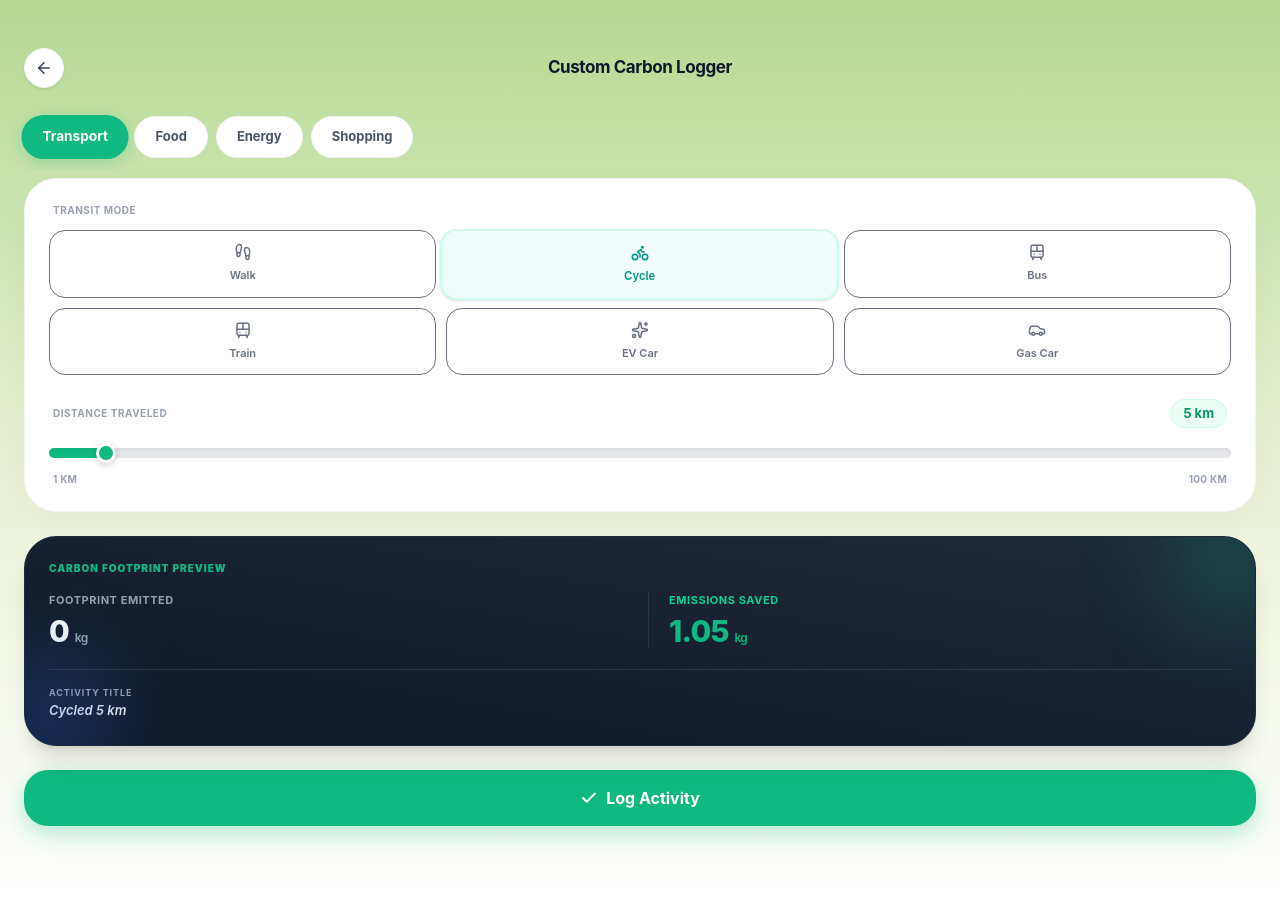
Test: ActivityTracker Page Component › submits activity payload successfully and displays success modal
Click the button "Log Activity" at x=640, y=798, box [24, 770, 1256, 826]
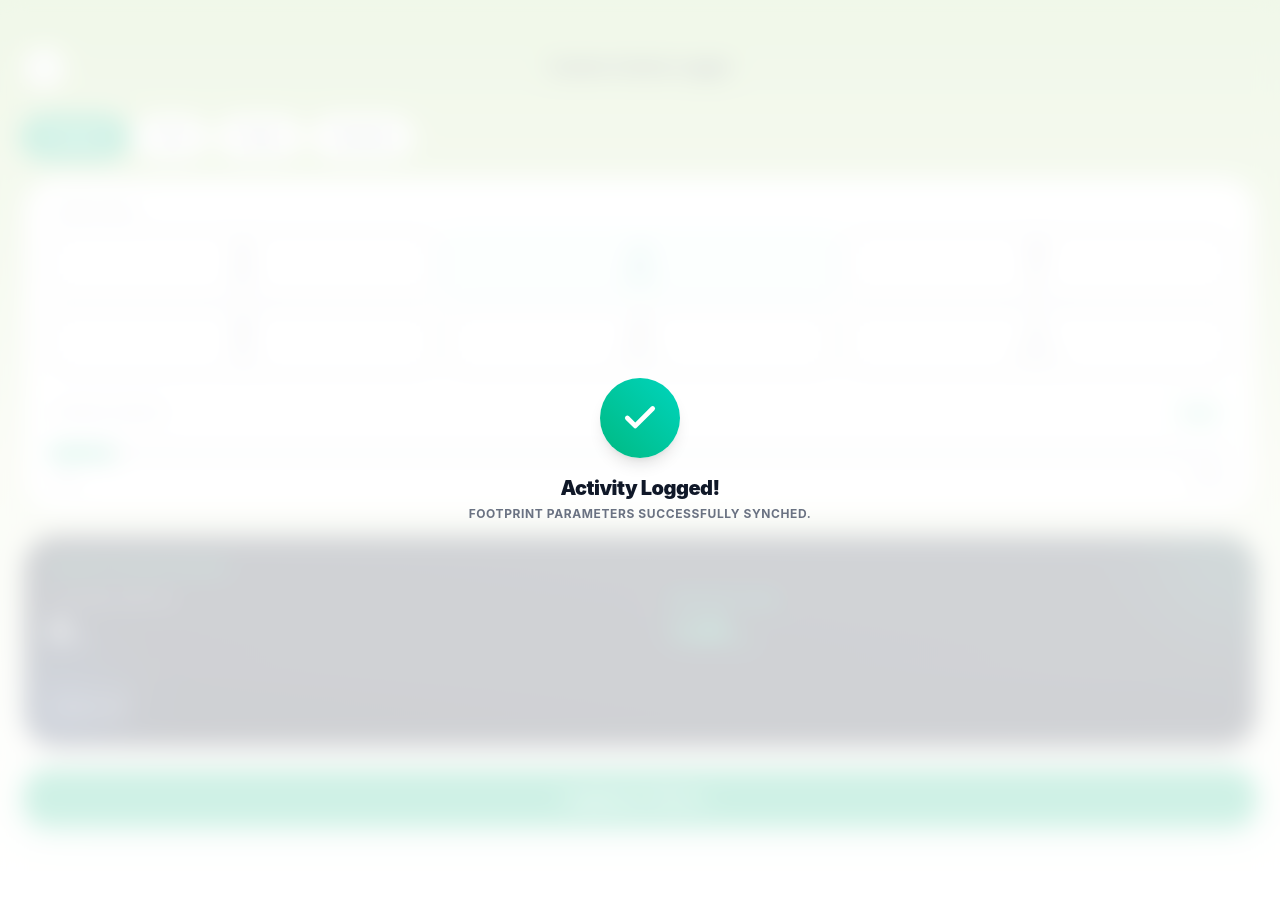
Expected: the heading "Activity Logged!" is shown, [560, 474, 720, 502]
